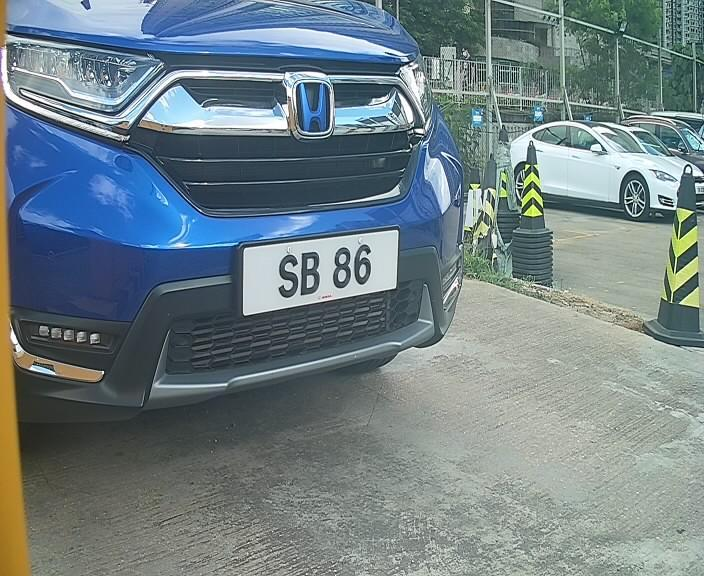License Plate: (233, 224, 403, 317)
